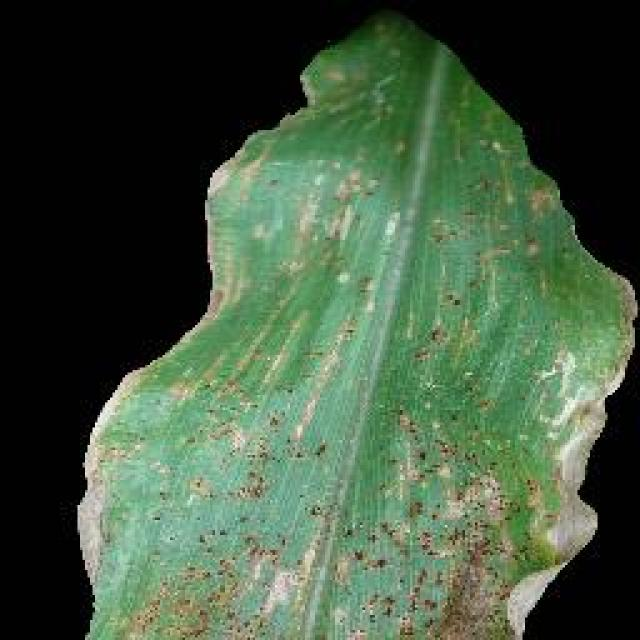Corn___Common_rust: (52, 0, 638, 640)
